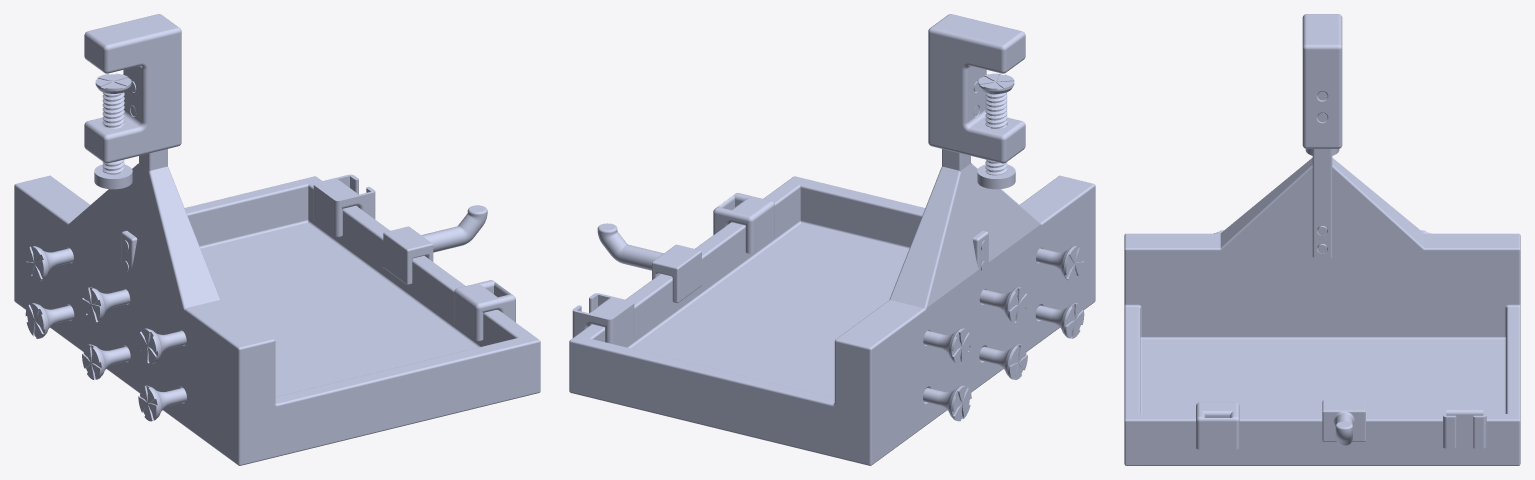
Rendered from Assembly for hook clamp.glb.
The picture shows the model from 3 angles, left to right: view 1: azimuth 30°, elevation 25°; view 2: azimuth 150°, elevation 25°; view 3: azimuth 270°, elevation 25°; orthographic projection. The views are drawn at different scales.
Parts seen in each view (by area): view 1: Clamp hook-1, Clamp Main-1, Chopstick Holder Addon-1, MicroMeter Addon-1, USB Holder Addon-1, CLAMP SCREW-1, CLAMP back support-4, CLAMP back support-2, CLAMP back support-5, CLAMP back support-8, CLAMP back support-7, CLAMP back support-3 (+1 smaller); view 2: Clamp hook-1, Clamp Main-1, Chopstick Holder Addon-1, USB Holder Addon-1, MicroMeter Addon-1, CLAMP SCREW-1, CLAMP back support-3, CLAMP back support-5, CLAMP back support-2, CLAMP back support-8, CLAMP back support-4, CLAMP back support-7 (+1 smaller); view 3: Clamp hook-1, Clamp Main-1, Clamp Anchor-1, USB Holder Addon-1, MicroMeter Addon-1, Chopstick Holder Addon-1.
Part boxes in pixels (<box>): Clamp hook-1: <box>14,163,540,465</box>; Clamp Main-1: <box>84,14,181,163</box>; Chopstick Holder Addon-1: <box>383,205,487,284</box>; MicroMeter Addon-1: <box>313,174,375,236</box>; USB Holder Addon-1: <box>454,280,515,340</box>; CLAMP SCREW-1: <box>94,92,132,189</box>; CLAMP back support-4: <box>25,303,74,338</box>; CLAMP back support-2: <box>82,287,130,322</box>; CLAMP back support-5: <box>82,344,130,379</box>; CLAMP back support-8: <box>138,385,186,421</box>; CLAMP back support-7: <box>138,328,186,364</box>; CLAMP back support-3: <box>26,246,73,281</box>; Clamp hook-1: <box>569,163,1095,465</box>; Clamp Main-1: <box>928,14,1025,163</box>; Chopstick Holder Addon-1: <box>597,223,701,303</box>; USB Holder Addon-1: <box>713,193,774,253</box>; MicroMeter Addon-1: <box>572,293,634,346</box>; CLAMP SCREW-1: <box>977,92,1015,189</box>; CLAMP back support-3: <box>923,328,971,363</box>; CLAMP back support-5: <box>979,344,1027,379</box>; CLAMP back support-2: <box>979,287,1027,322</box>; CLAMP back support-8: <box>1035,303,1084,338</box>; CLAMP back support-4: <box>923,385,971,421</box>; CLAMP back support-7: <box>1036,246,1084,281</box>; Clamp hook-1: <box>1124,158,1520,465</box>; Clamp Main-1: <box>1302,14,1342,148</box>; Clamp Anchor-1: <box>1312,149,1332,257</box>; USB Holder Addon-1: <box>1196,402,1239,449</box>; MicroMeter Addon-1: <box>1443,400,1486,448</box>; Chopstick Holder Addon-1: <box>1322,400,1365,446</box>.
Size of the model in its own units: 0.2088 by 0.173 by 0.2.
